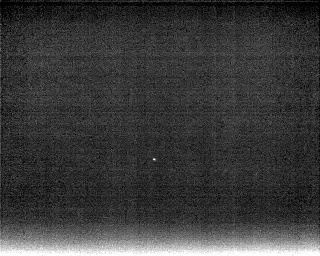BIRD: (150, 155, 158, 164)
